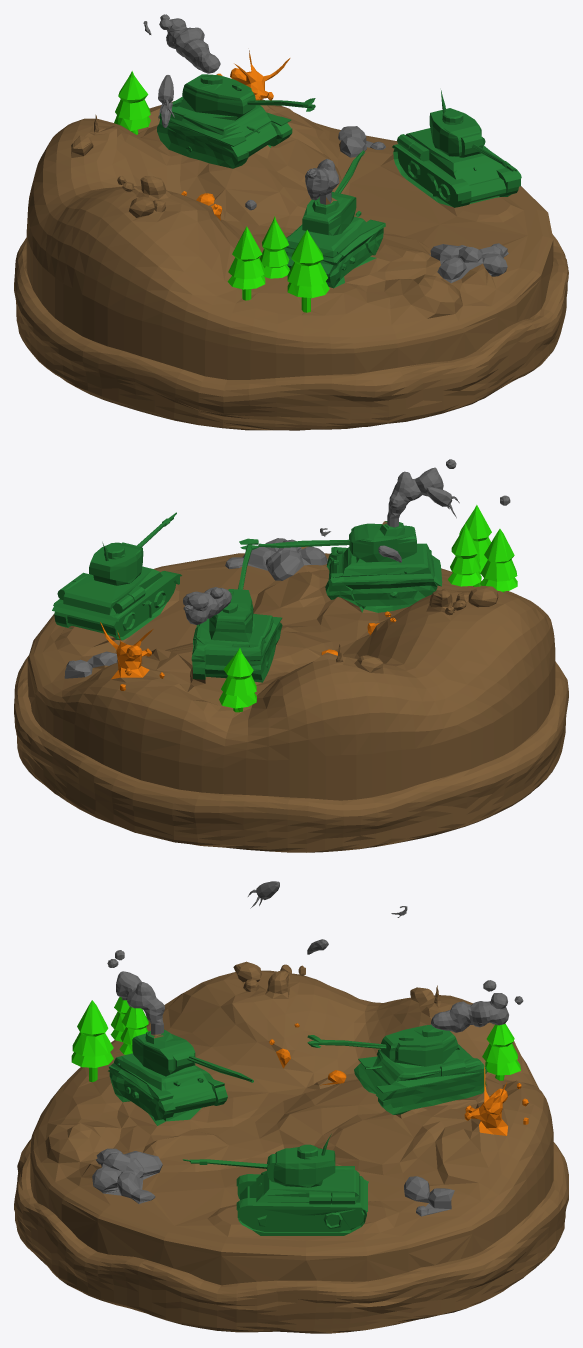
Rendered from classroom2almostdoneversion2.glb.
The picture shows the model from 3 angles, top to bottom: view 1: azimuth 30°, elevation 25°; view 2: azimuth 150°, elevation 25°; view 3: azimuth 270°, elevation 25°; orthographic projection.
Visible parts, largest first — view 1: base_model_path; view 2: base_model_path; view 3: base_model_path.
Part boxes in pixels (bbox=[...]): base_model_path: bbox=[14, 14, 568, 430]; base_model_path: bbox=[14, 459, 568, 852]; base_model_path: bbox=[14, 881, 568, 1333].
Size of what is drawn, in the model's own units: 9.95 by 5.46 by 9.99.
